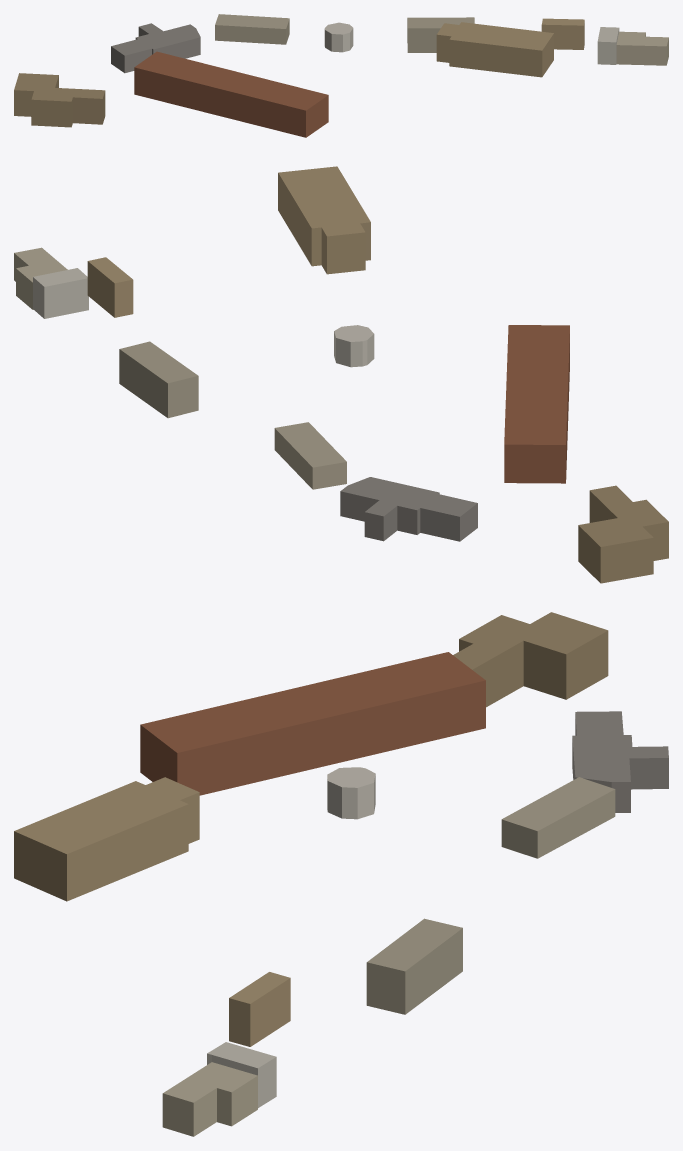
Rendered from tile_11_5.glb.
The picture shows the model from 3 angles, top to bottom: view 1: azimuth 30°, elevation 25°; view 2: azimuth 150°, elevation 25°; view 3: azimuth 270°, elevation 25°; orthographic projection. The views are drawn at different scales.
Parts seen in each view (by area): view 1: bld_11_5; view 2: bld_11_5; view 3: bld_11_5.
Part boxes in pixels (x1,y1,x2,y2): bld_11_5: [14, 14, 668, 137]; bld_11_5: [14, 166, 668, 583]; bld_11_5: [14, 612, 668, 1136].
Bounding box in the file's own units: 296 × 44.3 × 172.
